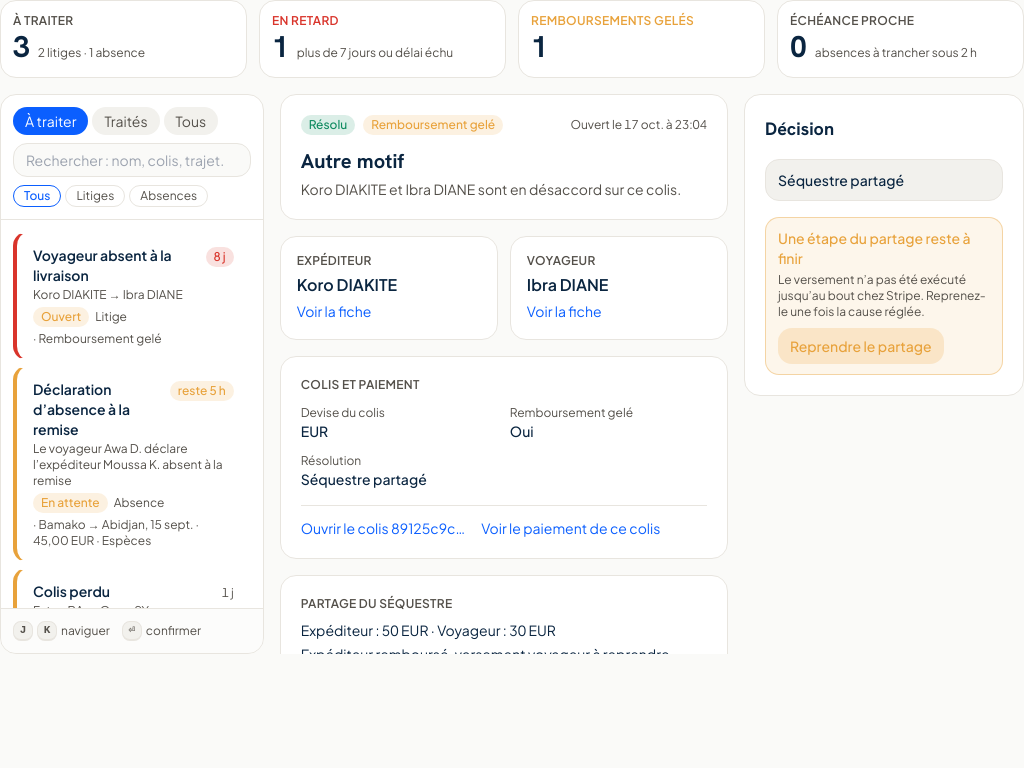
Test: pages/incidents › décisions sur un litige › reprise du partage refusée : l’erreur s’affiche
The image size is (1024, 768).
Click the button with test id "split-retry". click: x=861, y=346
box: [778,328,944,364]
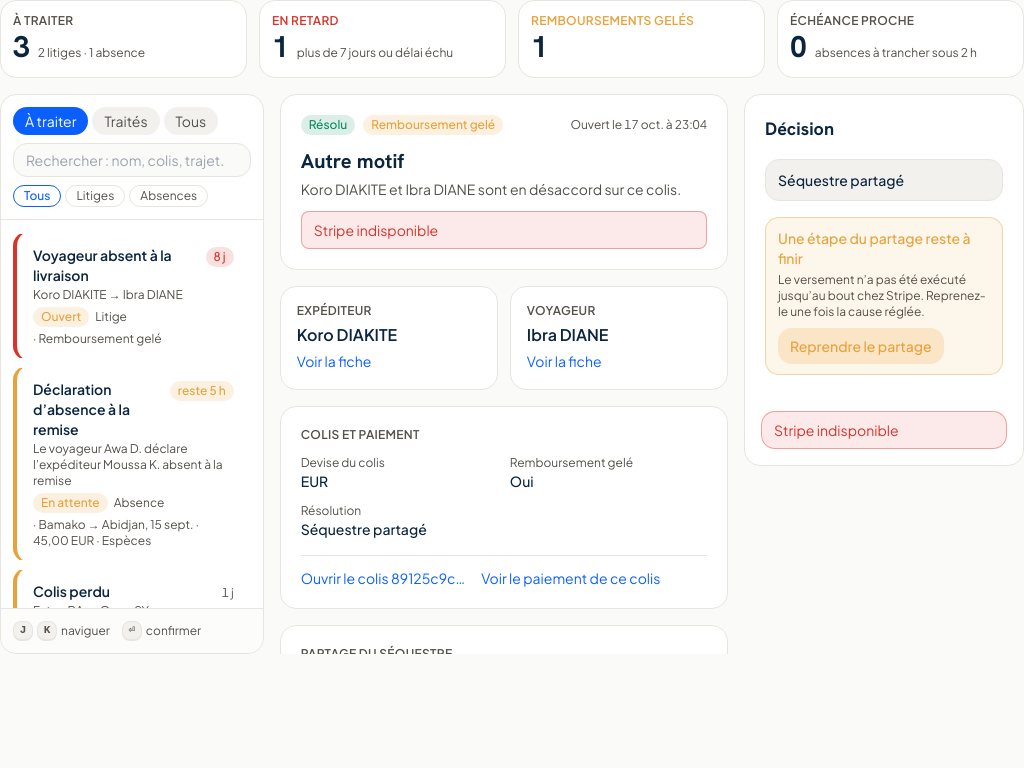
Now the message with test id "incident-error" reads "Stripe indisponible", box [774,421,898,439]
